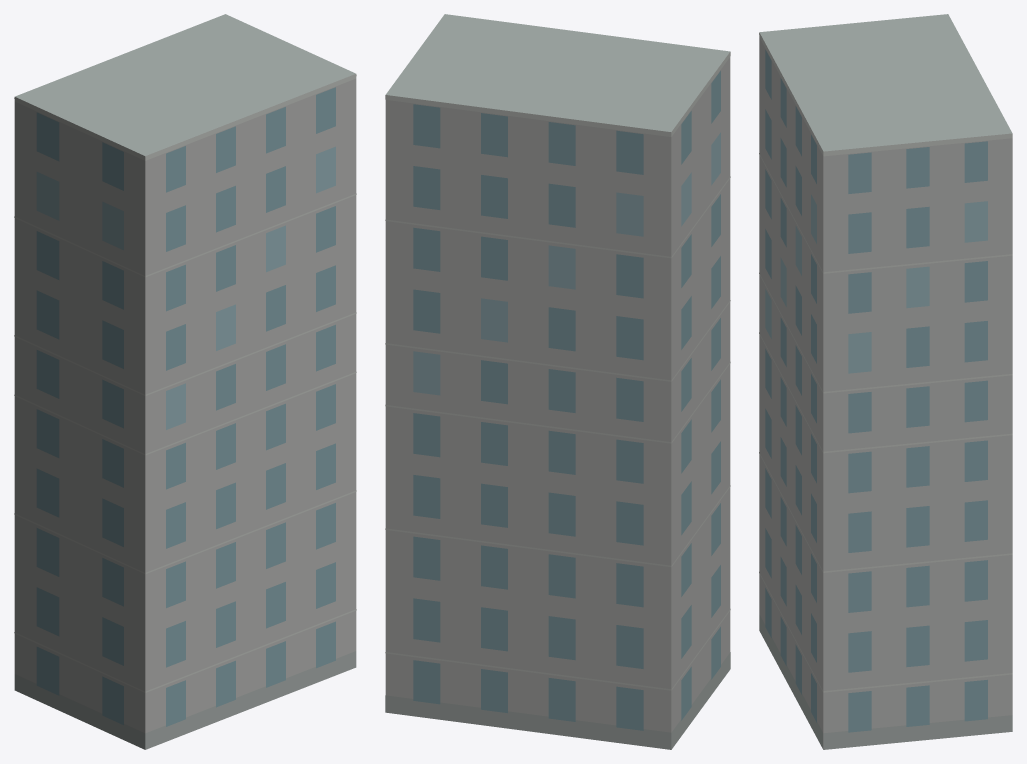
File: residential-c7a81507-62f1-4082-b778-e7ce95a041e4.glb
3 renders of one model, left to right at view 1: azimuth 30°, elevation 25°; view 2: azimuth 150°, elevation 25°; view 3: azimuth 270°, elevation 25°, orthographic. The views are drawn at different scales.
Visible parts, largest first — view 1: residential-c7a81507-62f1-4082-b778-e7ce95a041e4.tmp; view 2: residential-c7a81507-62f1-4082-b778-e7ce95a041e4.tmp; view 3: residential-c7a81507-62f1-4082-b778-e7ce95a041e4.tmp.
Boxes of the visible parts, x1=… form: residential-c7a81507-62f1-4082-b778-e7ce95a041e4.tmp: x1=14, y1=14, x2=356, y2=749; residential-c7a81507-62f1-4082-b778-e7ce95a041e4.tmp: x1=385, y1=14, x2=730, y2=749; residential-c7a81507-62f1-4082-b778-e7ce95a041e4.tmp: x1=759, y1=14, x2=1012, y2=749.
Size of the model in its own units: 15.07 by 30.5 by 11.73.
